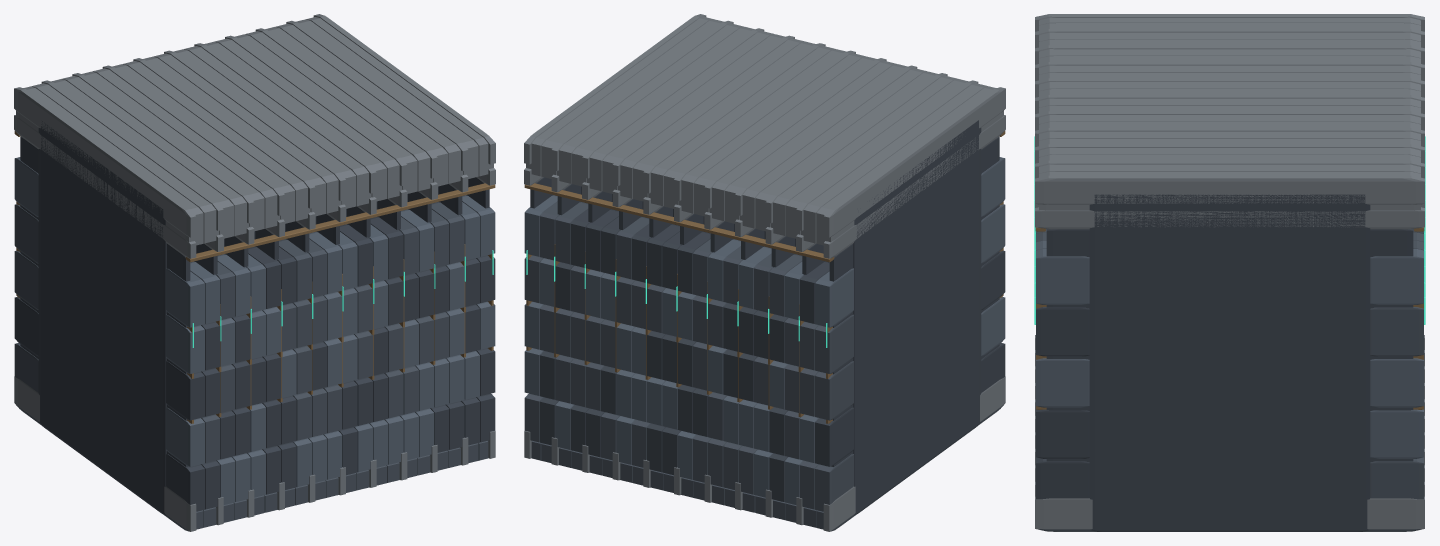
The model's file is SM_PG_ArenaRampart.fbx.
3 renders of one model, left to right at view 1: azimuth 30°, elevation 25°; view 2: azimuth 150°, elevation 25°; view 3: azimuth 270°, elevation 25°, orthographic. The views are drawn at different scales.
Parts seen in each view (by area): view 1: SM_PG_ArenaRampart; view 2: SM_PG_ArenaRampart; view 3: SM_PG_ArenaRampart.
Part boxes in pixels (x1,y1,x2,y2): SM_PG_ArenaRampart: (14, 14, 495, 531); SM_PG_ArenaRampart: (524, 14, 1005, 531); SM_PG_ArenaRampart: (1034, 14, 1425, 531).
Size of what is drawn, in the model's own units: 100 by 100 by 100.
